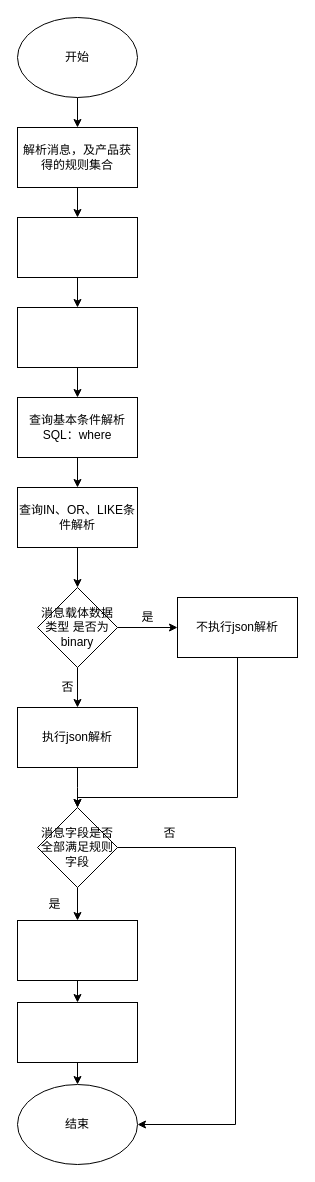
Image size: 315x1182. Some labels were removed from this diagram. Each missing label, with the centre of its shape:
"执行规则引擎" goes at [77,1032].
"拼接基础SQL" goes at [77,247].
"查询字段解析与转换 SQL：item" goes at [77,337].
"生成规则引擎运行模板文件" goes at [77,950].
